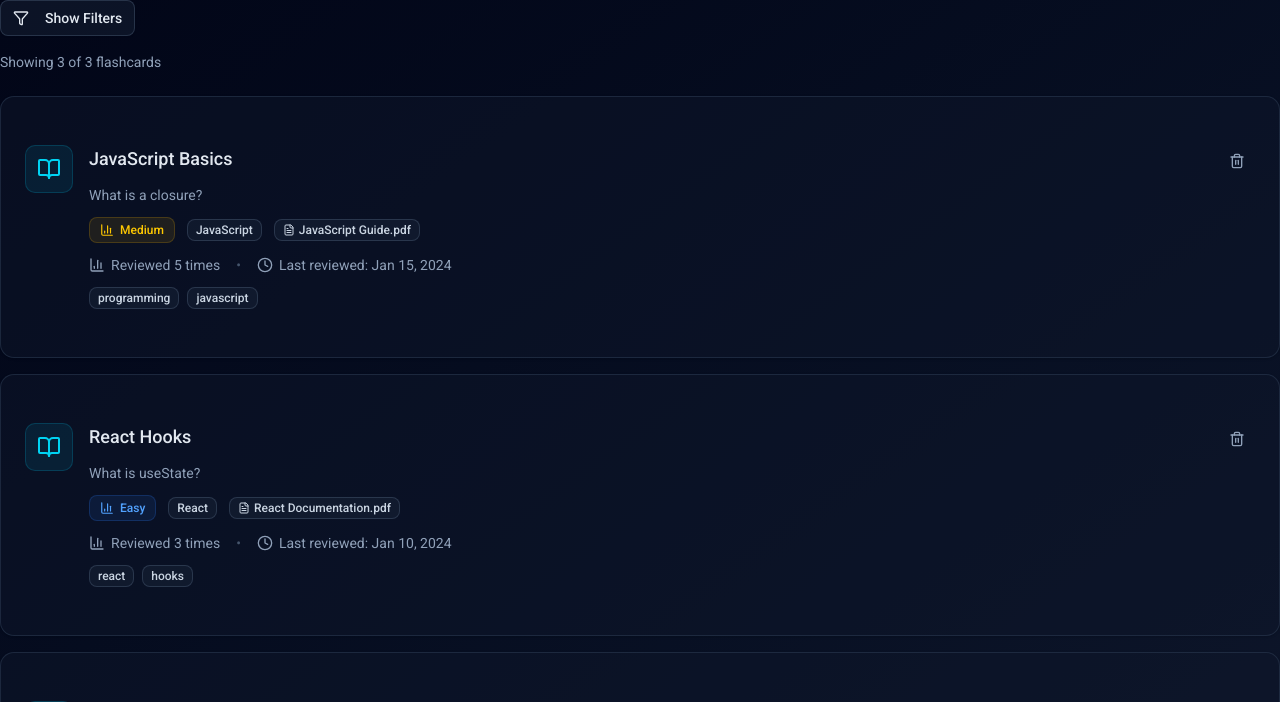
FlashcardList › opens delete confirmation dialog
Click the button without text in the row of "JavaScript Basics" at coordinates (1237, 161), box [1219, 145, 1255, 177]
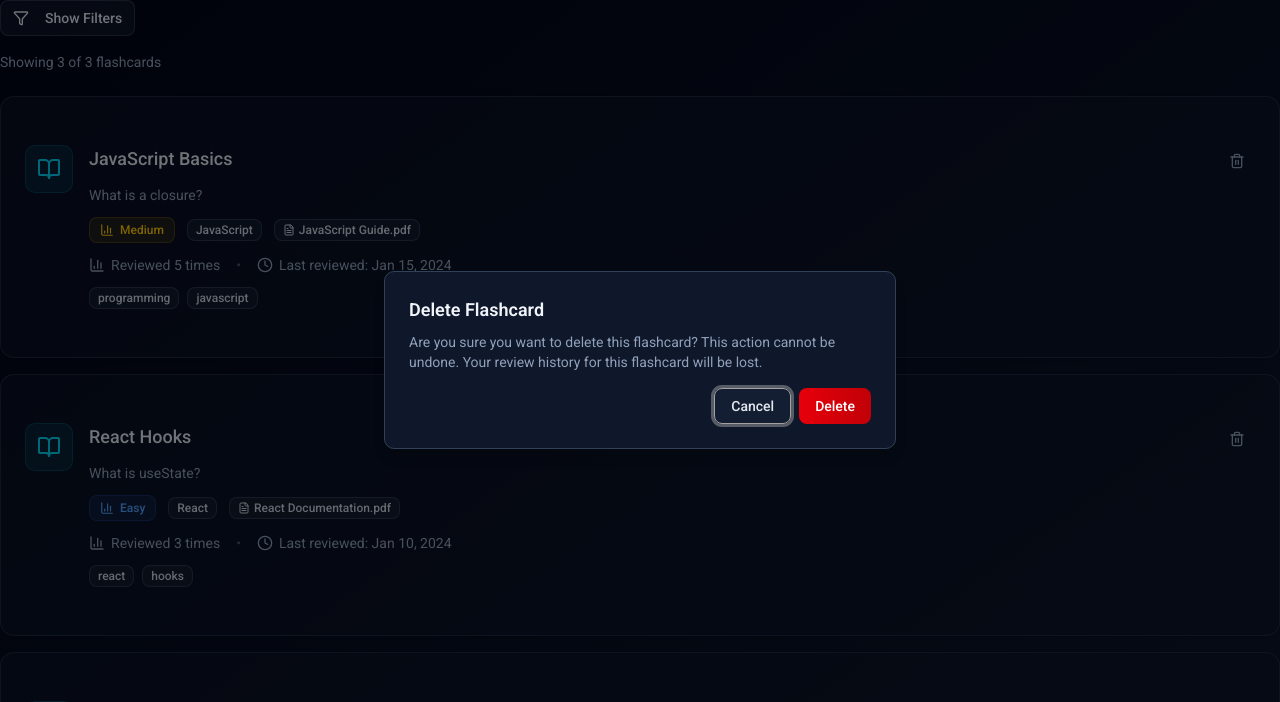
Check: the heading "Delete Flashcard" is shown, box [409, 299, 544, 320]
Check: the text "Are you sure you want to delete this flashcard" is shown, box [409, 334, 835, 370]
